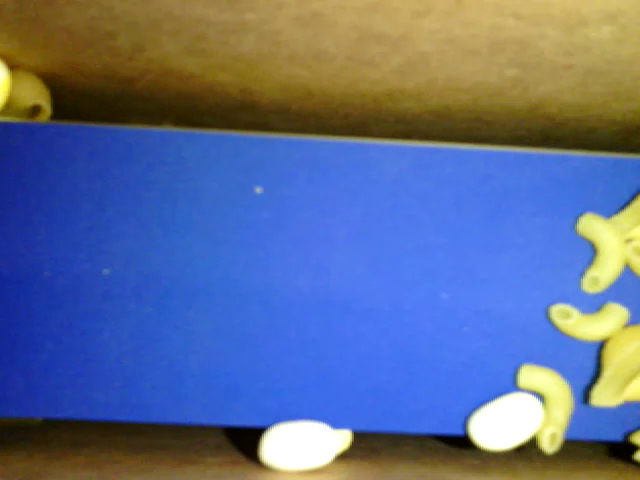elbow: (517, 362, 573, 453), (546, 298, 631, 345), (579, 210, 627, 292)
shell: (589, 324, 639, 407), (2, 64, 53, 123)
